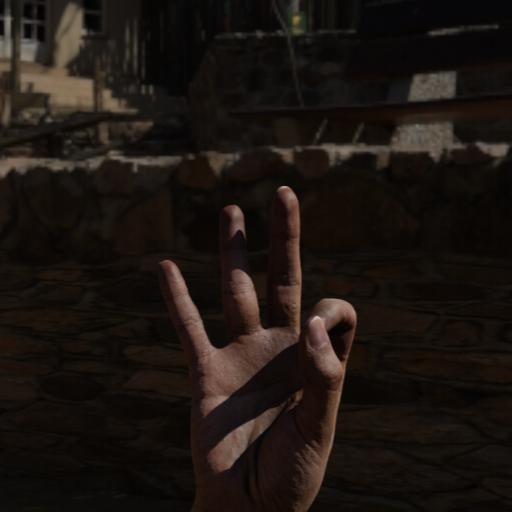F: (152, 177, 360, 512)
